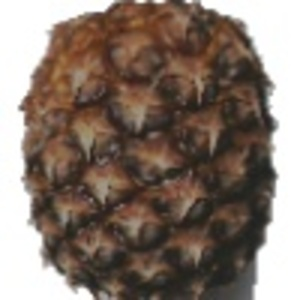abacaxi: (12, 5, 291, 293)
